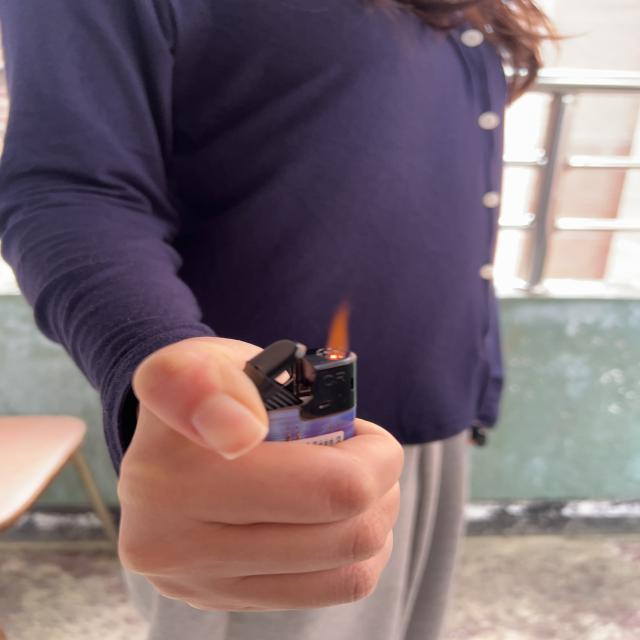fire: (324, 300, 352, 360)
